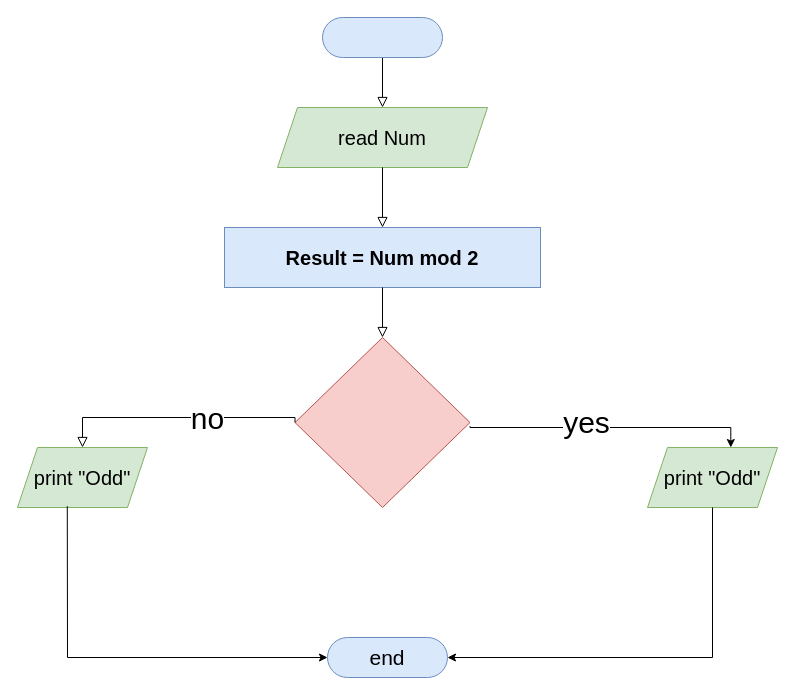
This 795x695 diagram has some shape labels left out. The box of each missing label's shape, as (x1, y1, x2, y2) in pixels:
R esult = 0 ?: (294, 336, 470, 508)
start: (322, 16, 442, 58)
